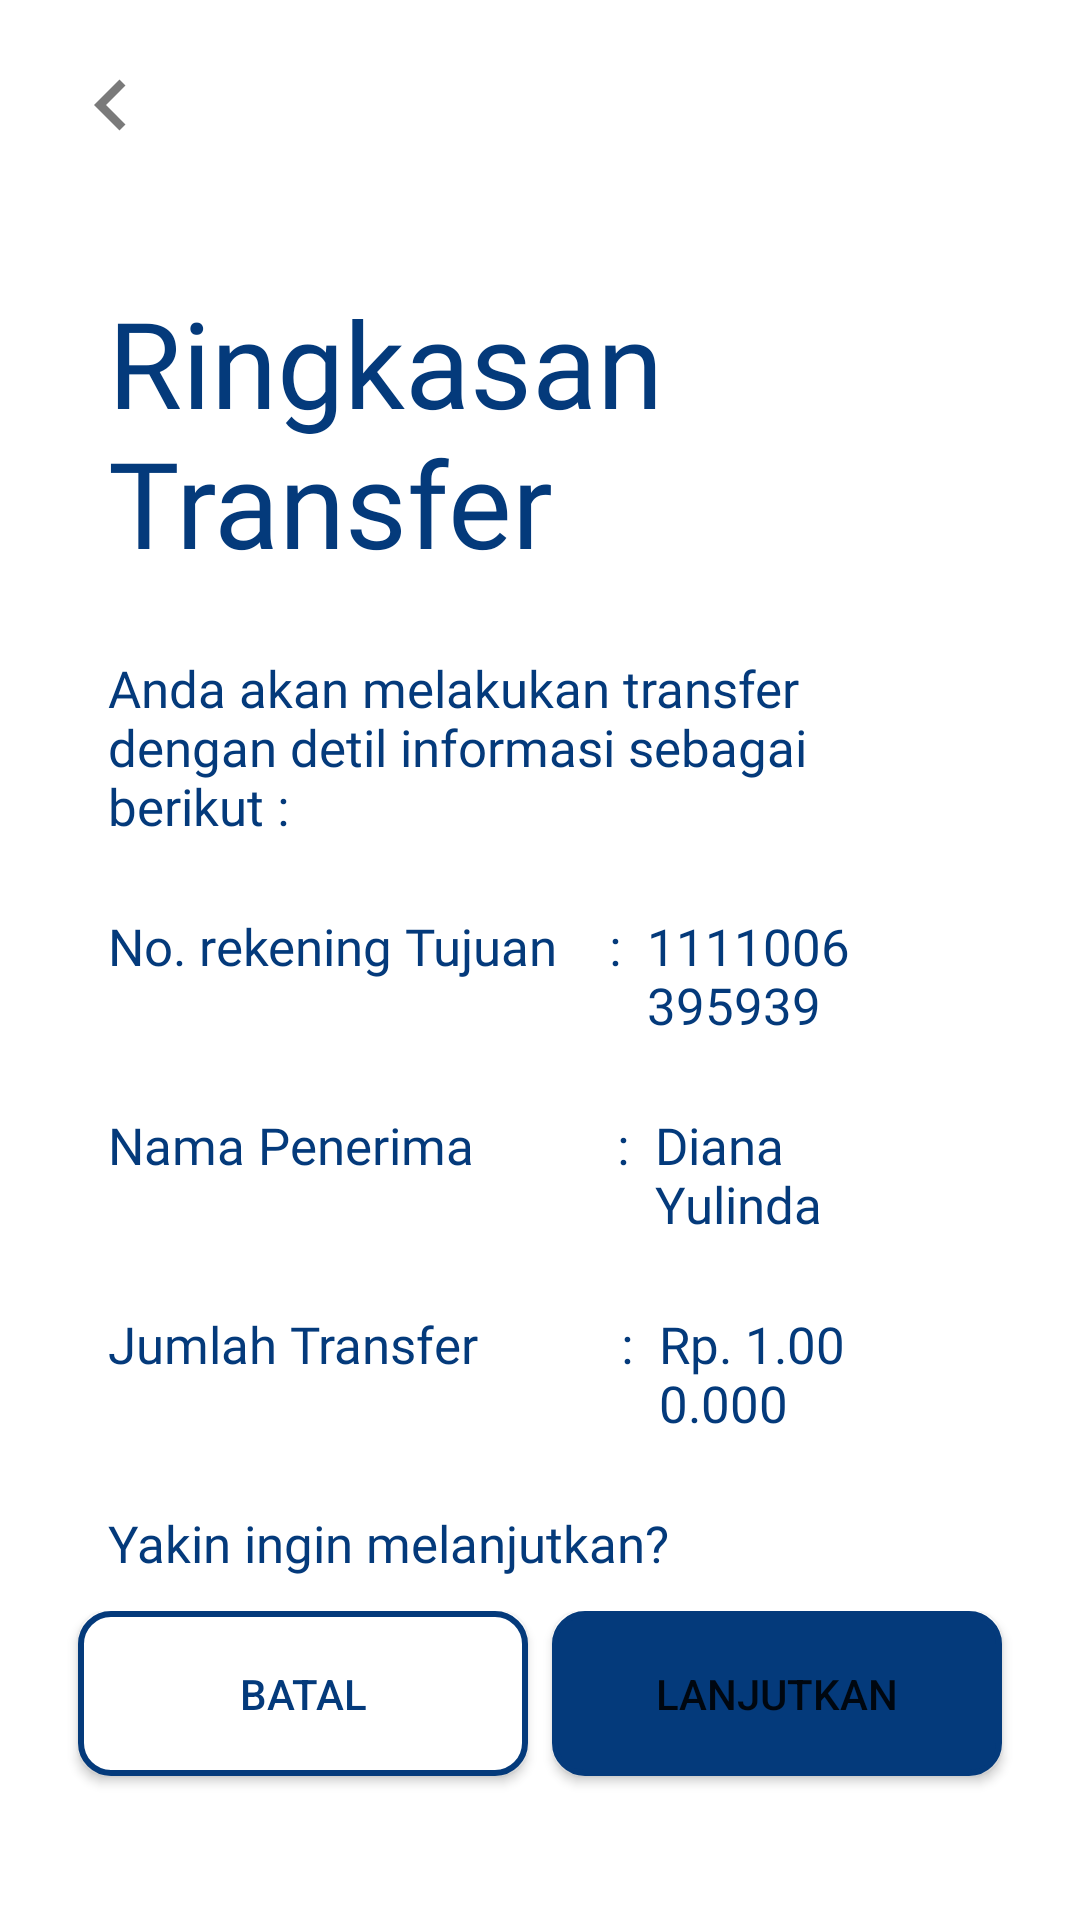

Locate icon controls on the screen. Image size 1080w x 1920h, boxes as (x1, y1, x2, y2).
back: (94, 79, 126, 131)
